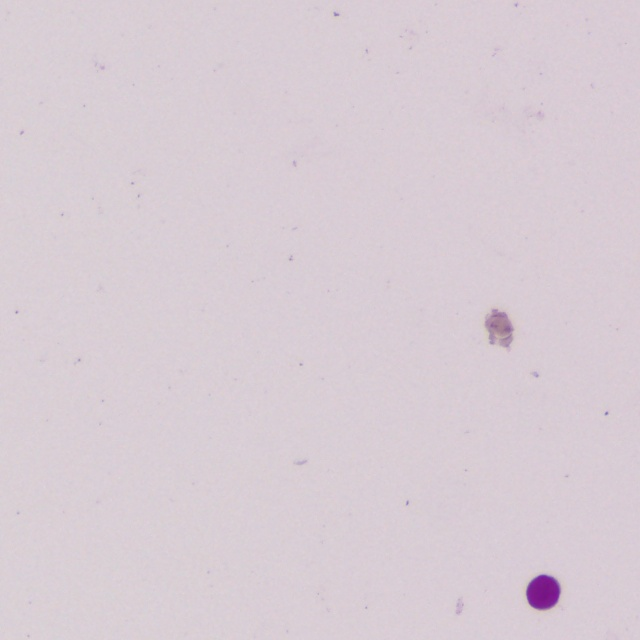viable: (527, 575, 560, 609)
